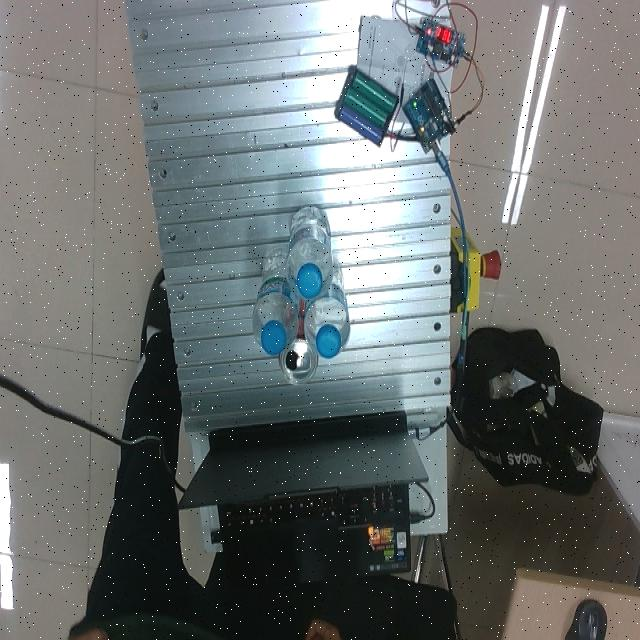coca: (278, 302, 319, 386)
lavie: (252, 249, 300, 356), (303, 260, 350, 359), (286, 207, 334, 301)
